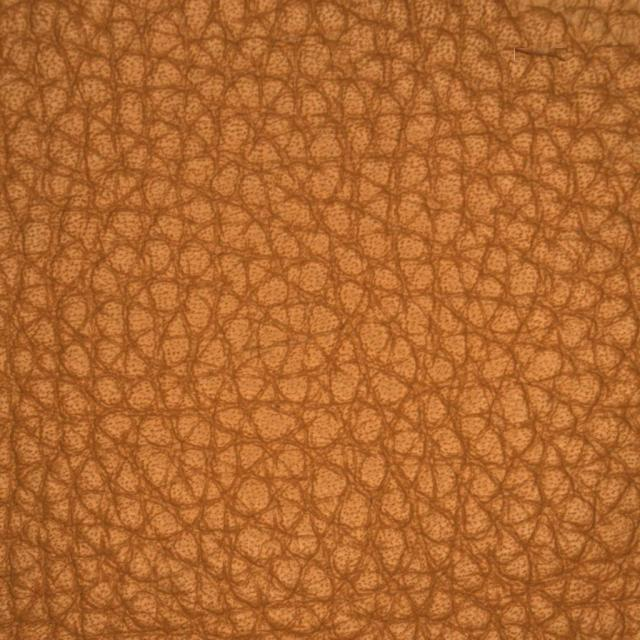Scratch: (467, 17, 608, 216)
